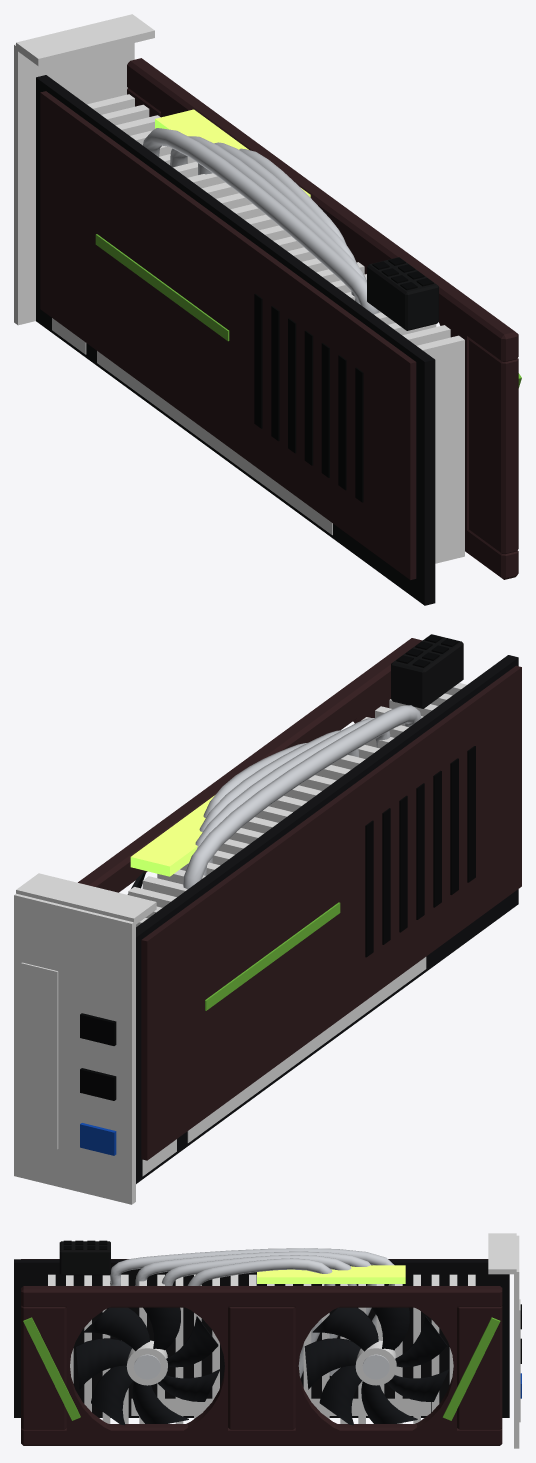
File: hw_gpu_rtx3070.glb
The picture shows the model from 3 angles, top to bottom: view 1: azimuth 30°, elevation 25°; view 2: azimuth 150°, elevation 25°; view 3: azimuth 270°, elevation 25°; orthographic projection. The views are drawn at different scales.
Parts seen in each view (by area): view 1: Body; view 2: Body; view 3: Body, Rotor_X_0, Rotor_X_1.
Boxes of the visible parts, x1=… form: Body: x1=14, y1=14, x2=521, y2=605; Body: x1=14, y1=634, x2=521, y2=1204; Body: x1=14, y1=1233, x2=521, y2=1448; Rotor_X_0: x1=304, y1=1307, x2=448, y2=1425; Rotor_X_1: x1=76, y1=1307, x2=220, y2=1425.
Size of the model in its own units: 0.0367 by 0.0847 by 0.2134.
